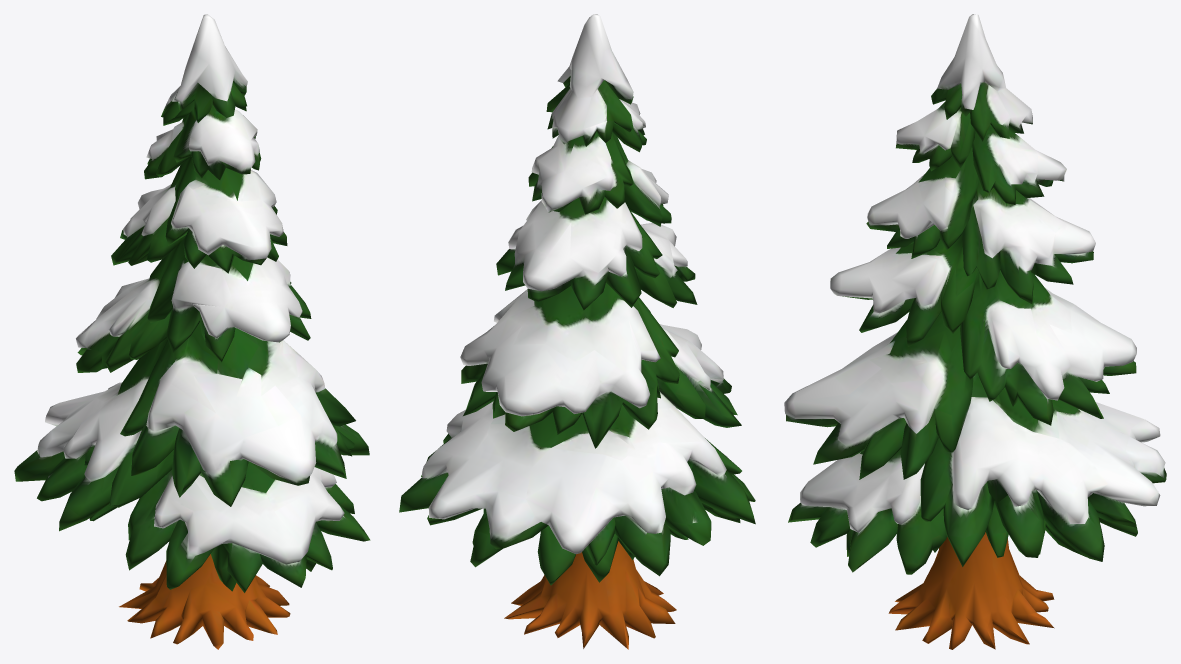
The model's file is pine_snow_a.glb.
3 views of the same model, side by side, from view 1: azimuth 30°, elevation 25°; view 2: azimuth 150°, elevation 25°; view 3: azimuth 270°, elevation 25° (orthographic).
Parts seen in each view (by area): view 1: tripo_node_a7171493-8969-424a-afb3-c34778330866; view 2: tripo_node_a7171493-8969-424a-afb3-c34778330866; view 3: tripo_node_a7171493-8969-424a-afb3-c34778330866.
Part boxes in pixels (box(x1,y1,x2,y2)): tripo_node_a7171493-8969-424a-afb3-c34778330866: box(14, 14, 370, 649); tripo_node_a7171493-8969-424a-afb3-c34778330866: box(399, 14, 755, 649); tripo_node_a7171493-8969-424a-afb3-c34778330866: box(784, 14, 1166, 649).
Size of the model in its own units: 2.82 by 5.21 by 2.99.
1 material, 1 textured.
